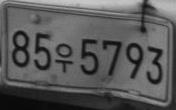3: (145, 45, 164, 85)
5: (79, 38, 99, 75), (33, 32, 51, 71)
7: (101, 39, 122, 75)
8: (11, 29, 30, 68)
9: (125, 41, 143, 79)
우: (53, 42, 73, 72)
